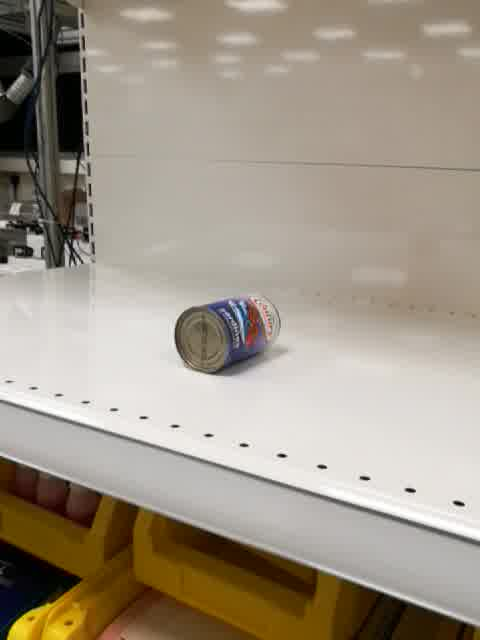sardine: (174, 292, 283, 374)
